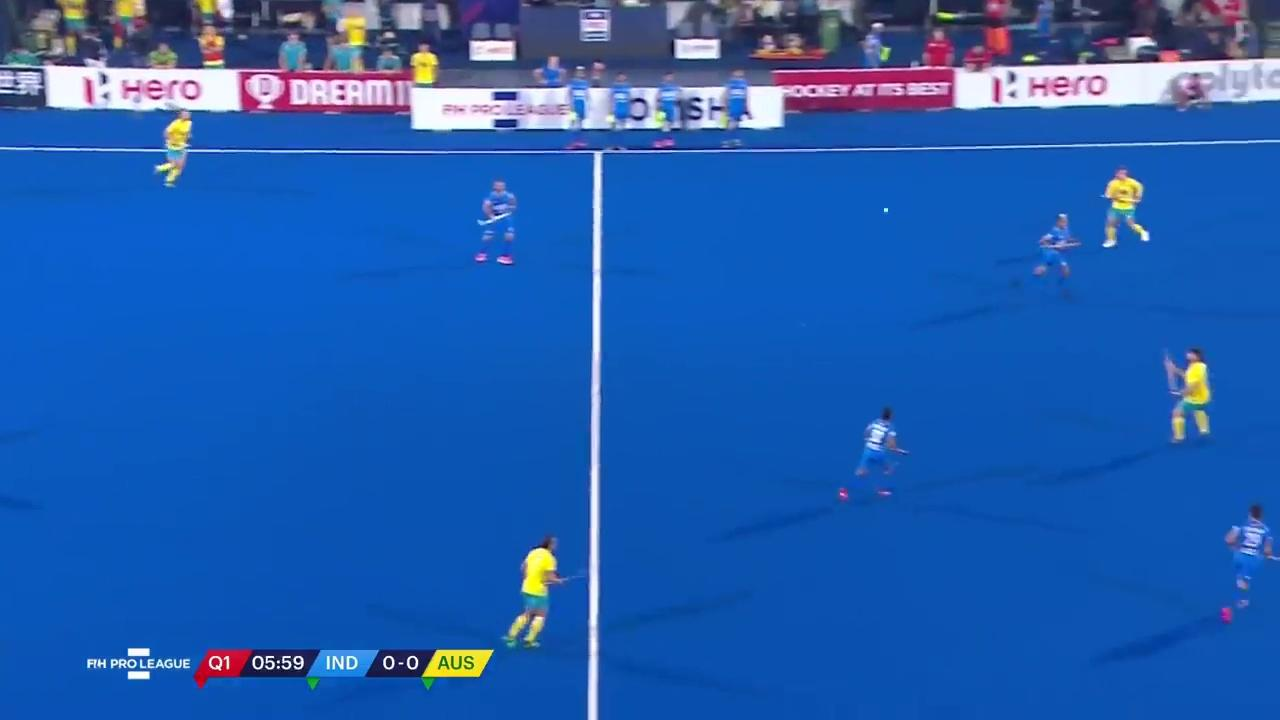ball: (880, 204, 891, 214)
